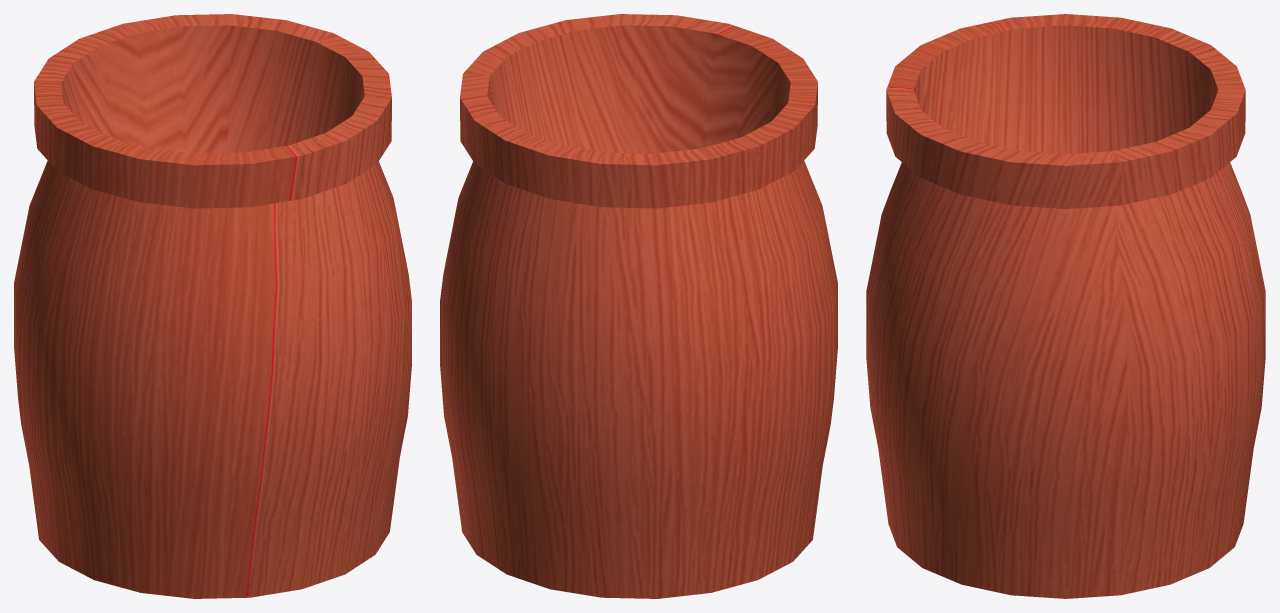
File: jar_2.gltf
3 renders of one model, left to right at view 1: azimuth 30°, elevation 25°; view 2: azimuth 150°, elevation 25°; view 3: azimuth 270°, elevation 25°, orthographic.
Parts seen in each view (by area): view 1: textureEditorIsolateSelectSet pasted__glass3; view 2: textureEditorIsolateSelectSet pasted__glass3; view 3: textureEditorIsolateSelectSet pasted__glass3.
Part boxes in pixels (bbox=[...]): textureEditorIsolateSelectSet pasted__glass3: bbox=[14, 14, 411, 598]; textureEditorIsolateSelectSet pasted__glass3: bbox=[440, 14, 837, 598]; textureEditorIsolateSelectSet pasted__glass3: bbox=[866, 14, 1265, 598].
Size of the model in its own units: 0.3548 by 0.4255 by 0.3548.
Materials: 1 (1 with a texture image).
